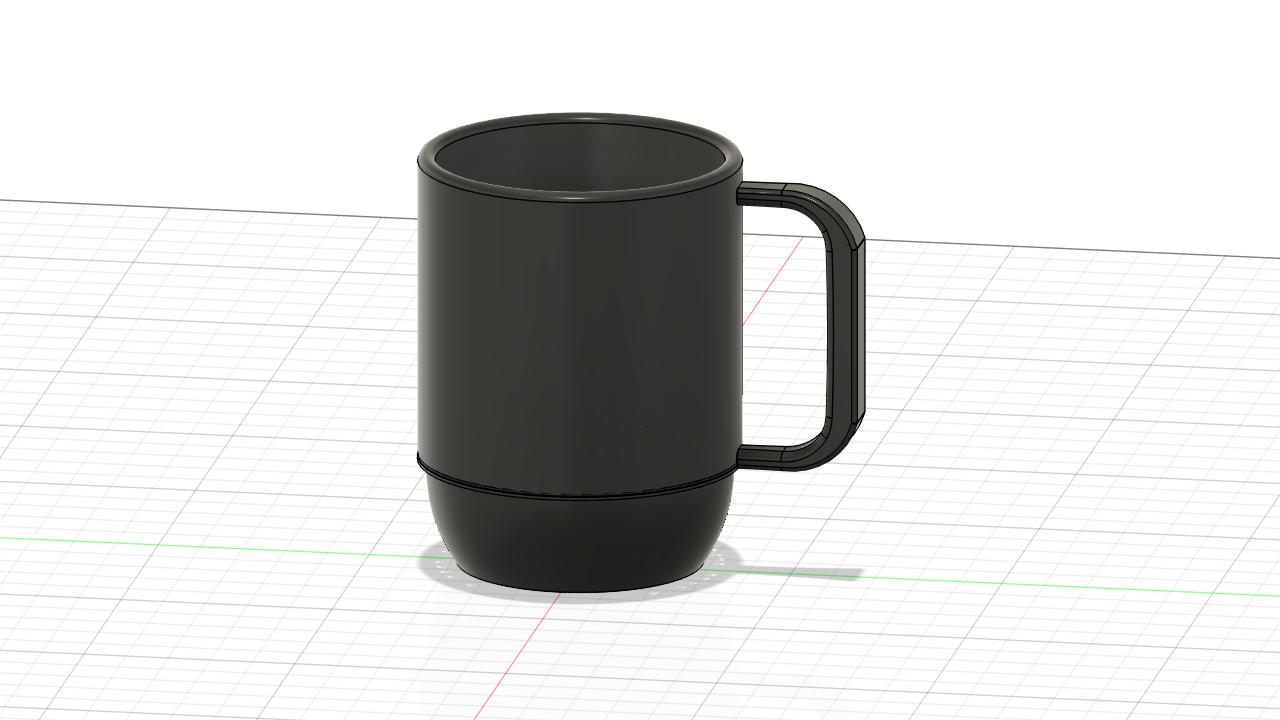mug-real100-3d100: (417, 113, 865, 591)
